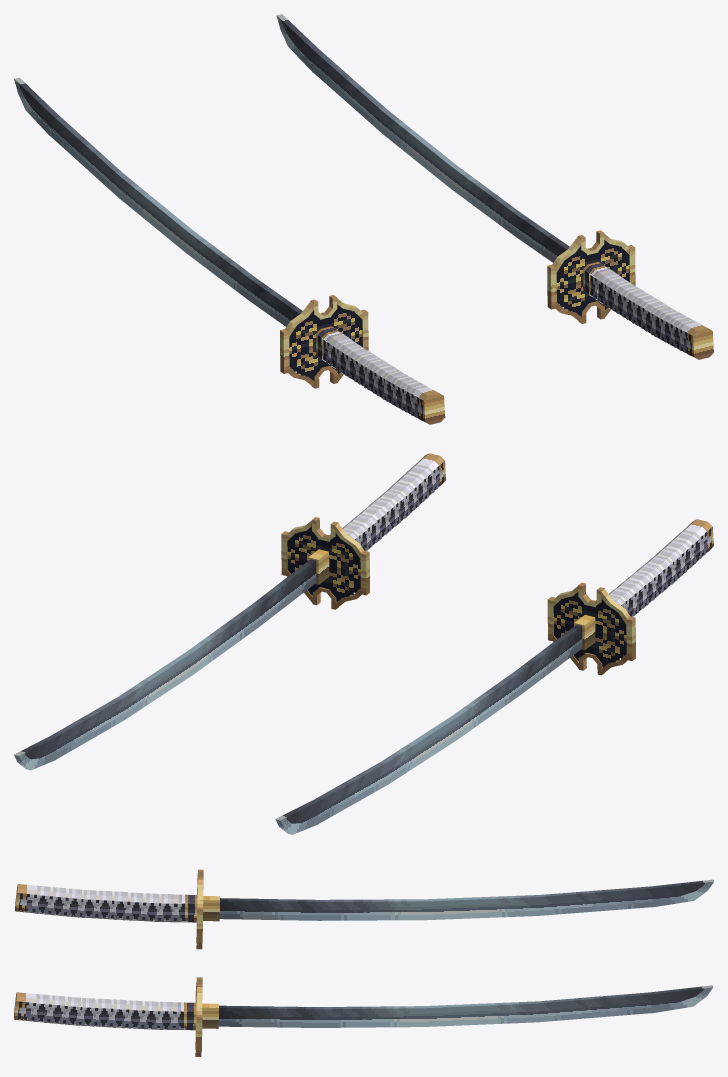
Rendered from yamato.glb.
3 views of the same model, one above another, from view 1: azimuth 30°, elevation 25°; view 2: azimuth 150°, elevation 25°; view 3: azimuth 270°, elevation 25° (orthographic). The views are drawn at different scales.
Visible parts, largest first — view 1: main__Tool_R, off__Tool_L; view 2: off__Tool_L, main__Tool_R; view 3: off__Tool_L, main__Tool_R.
Boxes of the visible parts, bbox=[...] form: main__Tool_R: bbox=[276, 14, 713, 359]; off__Tool_L: bbox=[14, 77, 445, 424]; off__Tool_L: bbox=[275, 519, 713, 834]; main__Tool_R: bbox=[14, 453, 445, 770]; off__Tool_L: bbox=[15, 869, 713, 949]; main__Tool_R: bbox=[14, 977, 712, 1056].
Size of the model in its own units: 1.1 by 0.2545 by 2.29.
Materials: 1 (1 with a texture image).
